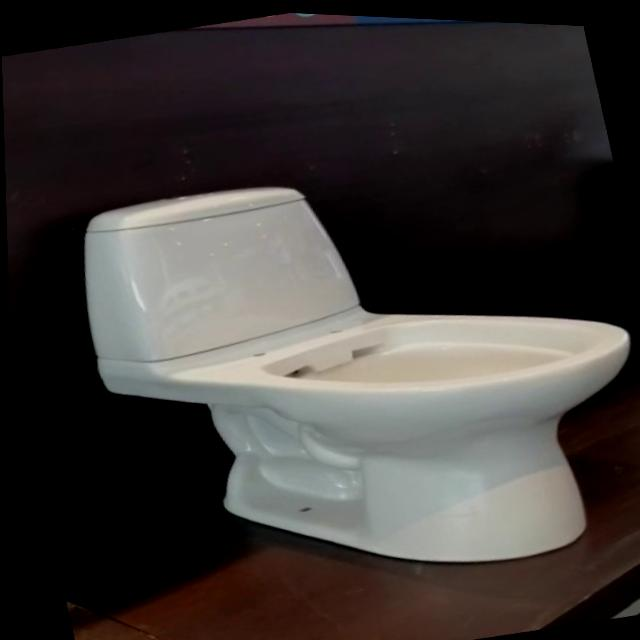toilet: (57, 110, 640, 630)
